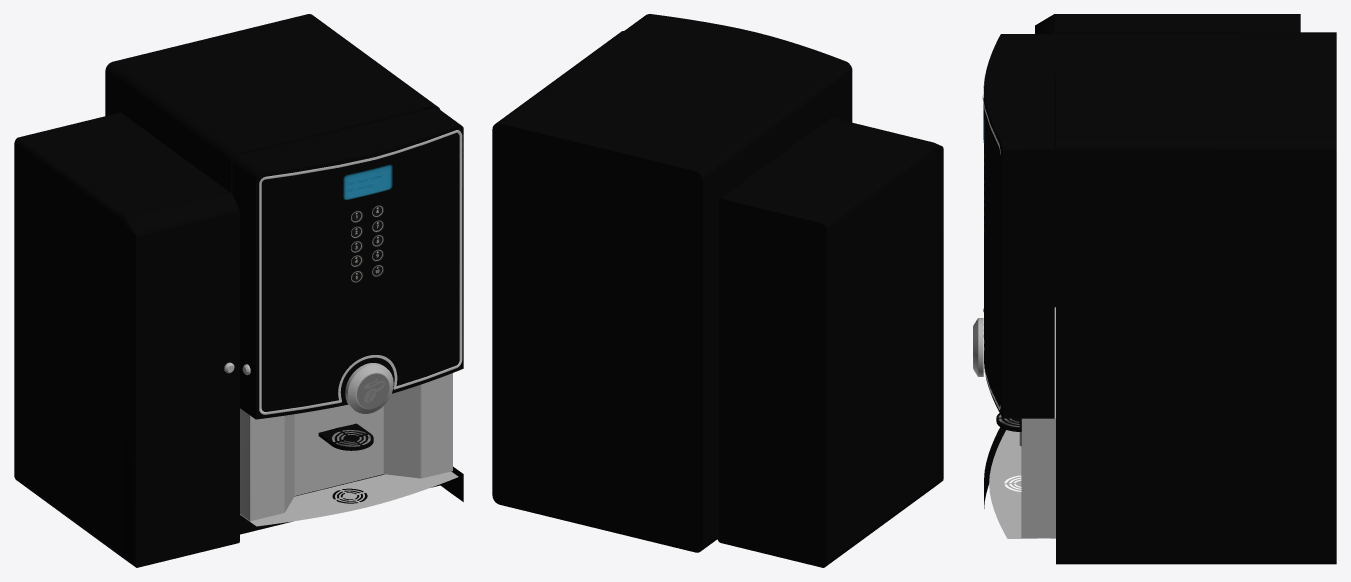
3 renders of one model, left to right at view 1: azimuth 30°, elevation 25°; view 2: azimuth 150°, elevation 25°; view 3: azimuth 270°, elevation 25°, orthographic. The views are drawn at different scales.
Parts seen in each view (by area): view 1: Tank, Front, Korpus, Rahmen, Blech_Extrudieren_1, Sweep_1, Zylinder_3, Extrudieren, Extrudieren_2, Tropfschahle, Scheibe_Extrudieren, Zylinder_2; view 2: Korpus, Tank, Front; view 3: Korpus, Front, Tank, Rahmen, Blech_Extrudieren_1, Zylinder_3.
Boxes of the visible parts, <box> form: Tank: <box>14,112,239,567</box>; Front: <box>232,107,463,419</box>; Korpus: <box>105,14,440,193</box>; Rahmen: <box>240,373,452,521</box>; Blech_Extrudieren_1: <box>240,471,458,526</box>; Sweep_1: <box>259,130,462,414</box>; Zylinder_3: <box>345,363,393,413</box>; Extrudieren: <box>343,164,392,200</box>; Extrudieren_2: <box>351,204,383,282</box>; Tropfschahle: <box>240,466,463,534</box>; Scheibe_Extrudieren: <box>318,423,373,450</box>; Zylinder_2: <box>357,374,389,408</box>; Korpus: <box>492,30,828,552</box>; Tank: <box>717,117,943,567</box>; Front: <box>625,14,852,122</box>; Korpus: <box>1056,32,1336,564</box>; Front: <box>984,34,1054,418</box>; Tank: <box>1035,14,1300,307</box>; Rahmen: <box>1019,307,1055,537</box>; Blech_Extrudieren_1: <box>989,430,1055,538</box>; Zylinder_3: <box>973,318,983,376</box>.
Size of the model in its own units: 482 by 553 by 429.
7 materials, 2 textured.
